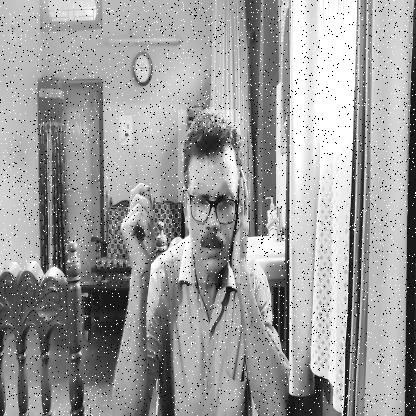Normal: (178, 110, 240, 283)
